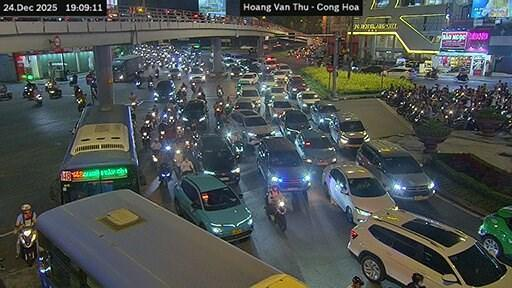motorbike: (18, 225, 35, 265), (266, 198, 284, 229), (226, 131, 243, 157), (159, 162, 170, 188), (172, 148, 182, 175), (22, 84, 35, 98), (76, 95, 86, 112), (234, 140, 243, 158), (140, 130, 149, 148), (32, 90, 41, 106), (152, 149, 159, 169), (48, 86, 60, 97), (454, 73, 467, 81), (0, 90, 11, 99), (426, 71, 437, 79), (69, 76, 76, 85), (217, 88, 223, 98), (134, 79, 140, 88), (131, 100, 137, 109), (147, 80, 153, 89), (154, 70, 159, 77)
